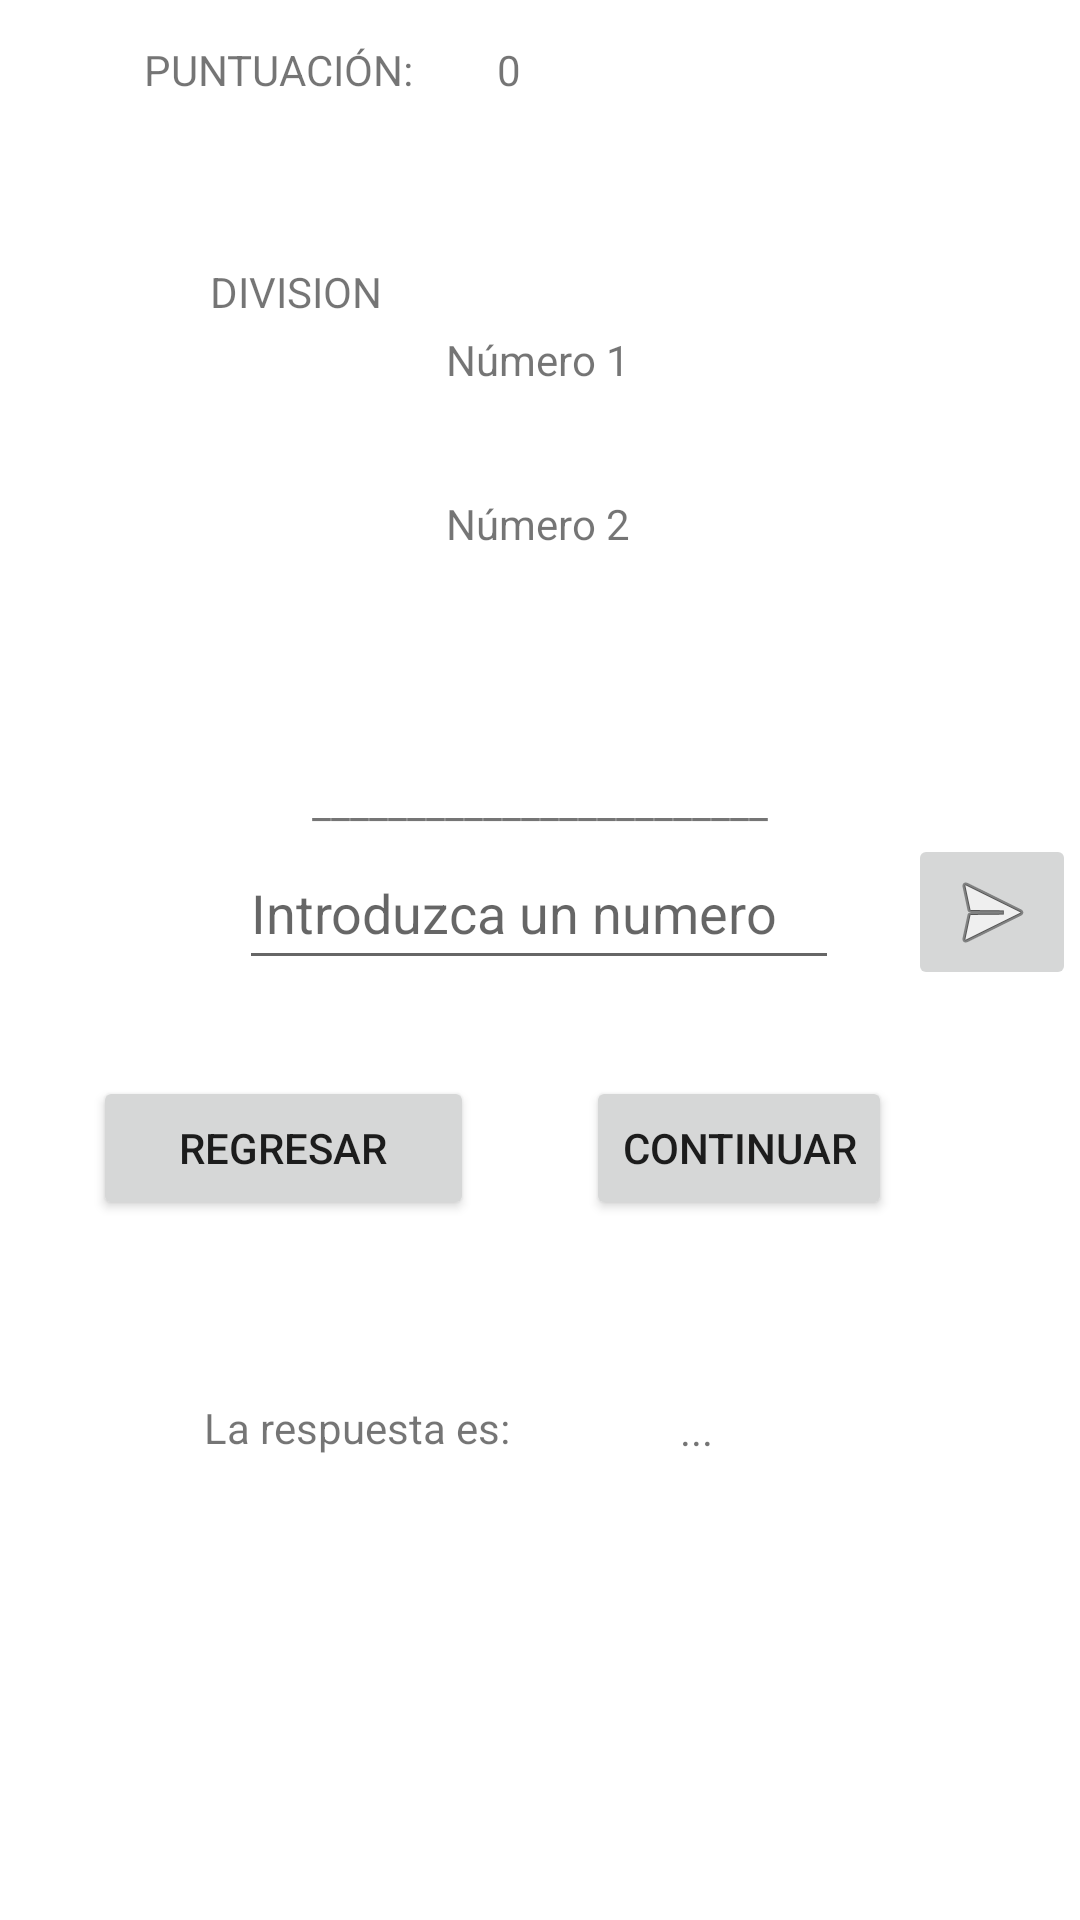

Locate icon controls on the screen. Image size 1080×1920, boxes as (x1, y1, x2, y2).
send: (920, 852, 1064, 972)
